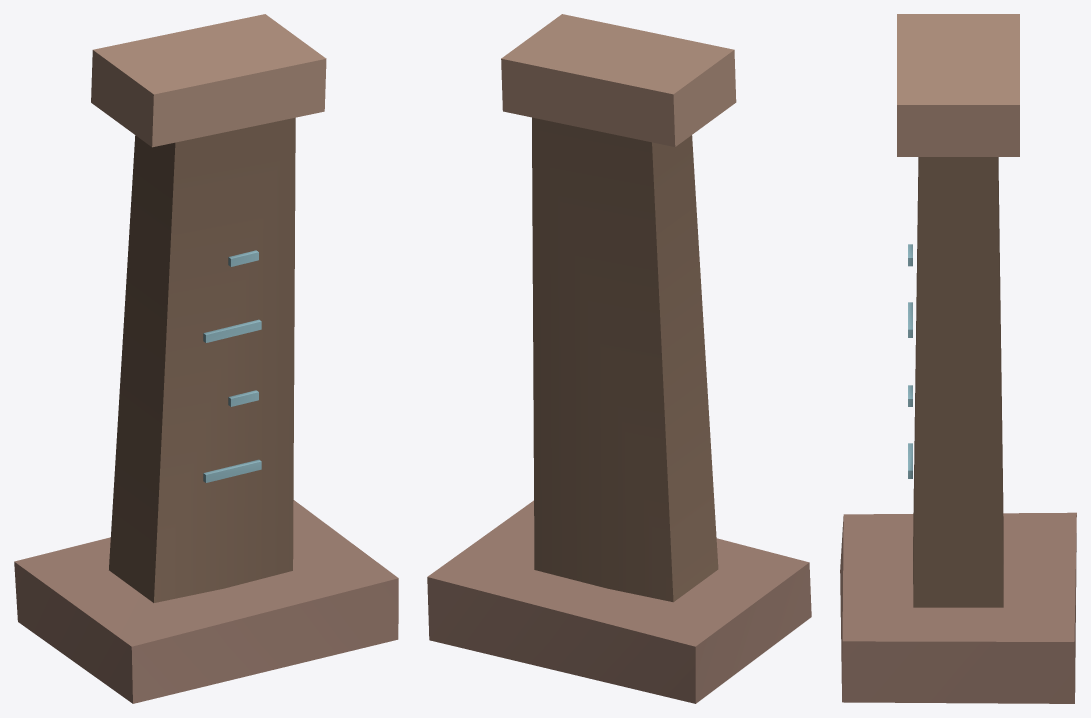
The model's file is marker_stone.glb.
3 views of the same model, side by side, from view 1: azimuth 30°, elevation 25°; view 2: azimuth 150°, elevation 25°; view 3: azimuth 270°, elevation 25° (orthographic).
Parts seen in each view (by area): view 1: marker_stone; view 2: marker_stone; view 3: marker_stone.
Part boxes in pixels (<box>): marker_stone: <box>14,14,398,703</box>; marker_stone: <box>427,14,811,703</box>; marker_stone: <box>840,14,1076,703</box>.
Bounding box in the file's own units: 2.42 × 4.97 × 1.83.
